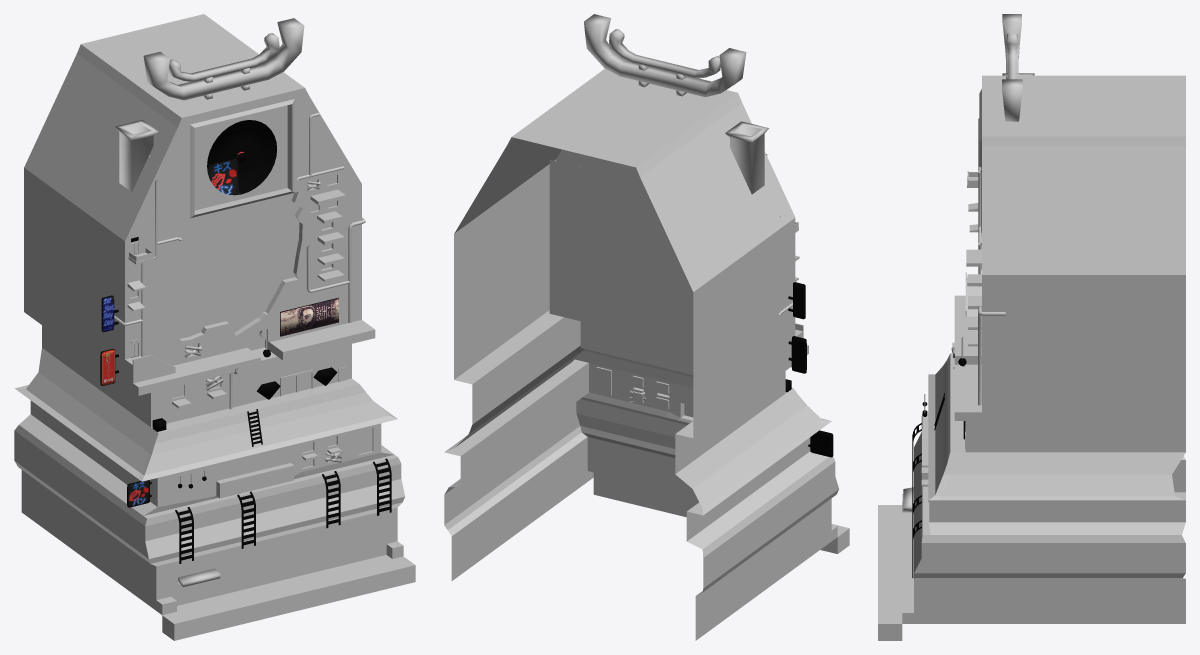
File: TowerNathan4.fbx
3 views of the same model, side by side, from view 1: azimuth 30°, elevation 25°; view 2: azimuth 150°, elevation 25°; view 3: azimuth 270°, elevation 25° (orthographic).
Visible parts, largest first — view 1: polySurface53, polySurface52, polySurface13, Mesh_polySurface31_001, polySurface42, polySurface31, polySurface33, polySurface36, polySurface32; view 2: polySurface53, polySurface52; view 3: polySurface53, Mesh_polySurface31_001.
Part boxes in pixels (bbox=[...]): polySurface53: bbox=[14, 14, 415, 640]; polySurface52: bbox=[118, 155, 299, 350]; polySurface13: bbox=[207, 120, 276, 195]; Mesh_polySurface31_001: bbox=[114, 112, 365, 484]; polySurface42: bbox=[280, 297, 338, 336]; polySurface31: bbox=[322, 471, 340, 528]; polySurface33: bbox=[373, 458, 391, 515]; polySurface36: bbox=[237, 491, 255, 548]; polySurface32: bbox=[175, 507, 193, 563]; polySurface53: bbox=[444, 14, 849, 640]; polySurface52: bbox=[549, 154, 780, 374]; polySurface53: bbox=[878, 14, 1185, 640]; Mesh_polySurface31_001: bbox=[924, 118, 1005, 412].
Size of the model in its own units: 8.99 by 17.05 by 8.99.
